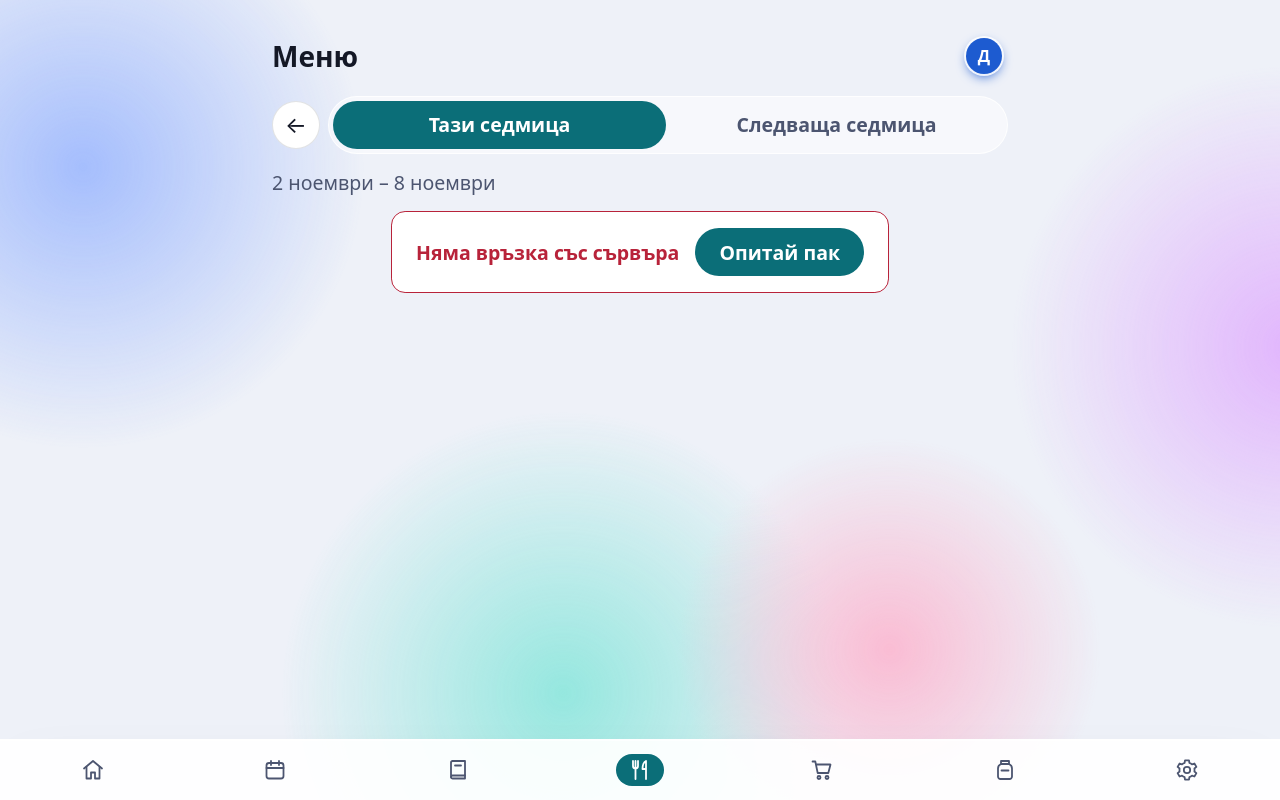
Scenario: PantryScreen › light тема: „Килер“ от навигацията на телефона води до екрана
Click the 6th link named "Килер".
click(1021, 773)  # box [980,754,1061,792]
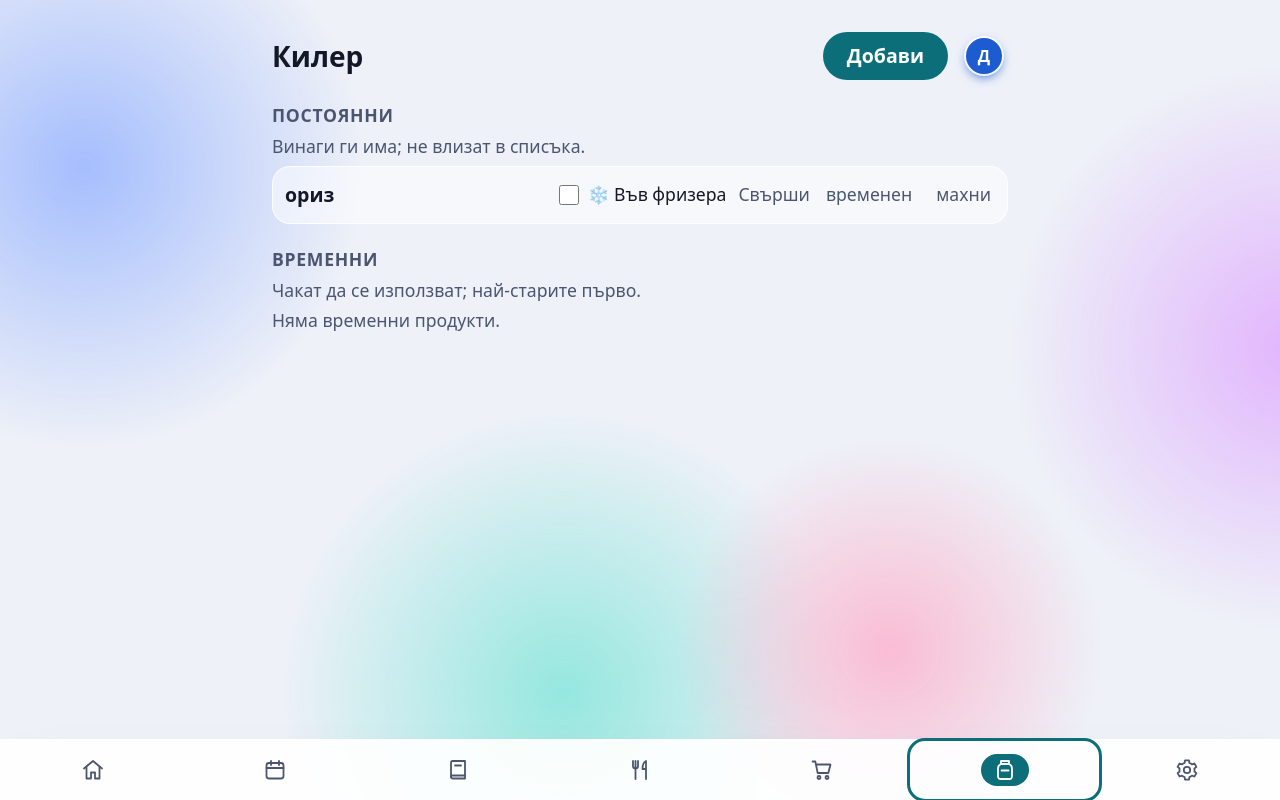
Check: the heading "Килер" is shown, box [272,37,363,75]
Check: the text "ориз" is shown, box [285,182,334,207]
